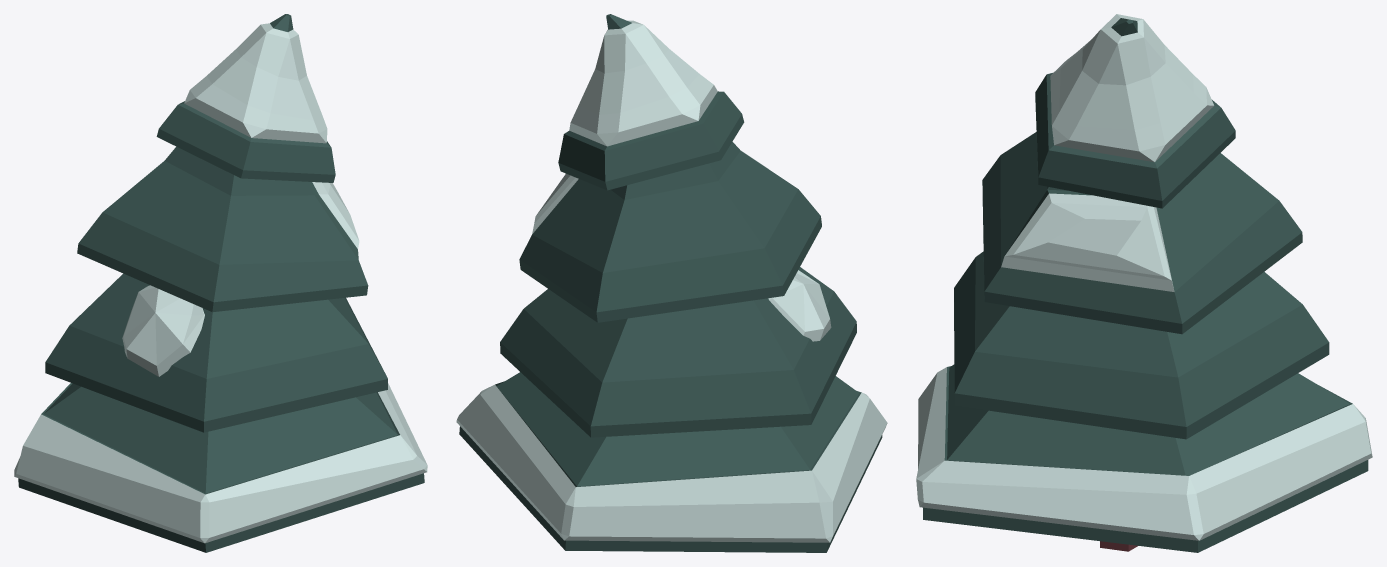
File: tree_2.fbx
3 renders of one model, left to right at view 1: azimuth 30°, elevation 25°; view 2: azimuth 150°, elevation 25°; view 3: azimuth 270°, elevation 25°, orthographic. The views are drawn at different scales.
Parts seen in each view (by area): view 1: Cone, Cone.002, Cone.001, Cone.003, Cube; view 2: Cone, Cone.001, Cone.002, Cone.003, Cube; view 3: Cone, Cone.002, Cone.001, Cone.003.
Part boxes in pixels (x1,y1,x2,y2): Cone: (14,383,427,552); Cone.002: (77,146,368,312); Cone.001: (45,273,387,432); Cone.003: (156,14,335,182); Cube: (122,285,204,376); Cone: (456,372,887,552); Cone.001: (500,267,856,437); Cone.002: (519,142,821,322); Cone.003: (558,14,744,190); Cube: (768,270,831,341); Cone: (916,364,1372,552); Cone.002: (982,132,1302,334); Cone.001: (954,251,1329,439); Cone.003: (1035,14,1235,208).
Size of the model in its own units: 137 by 178 by 131.
